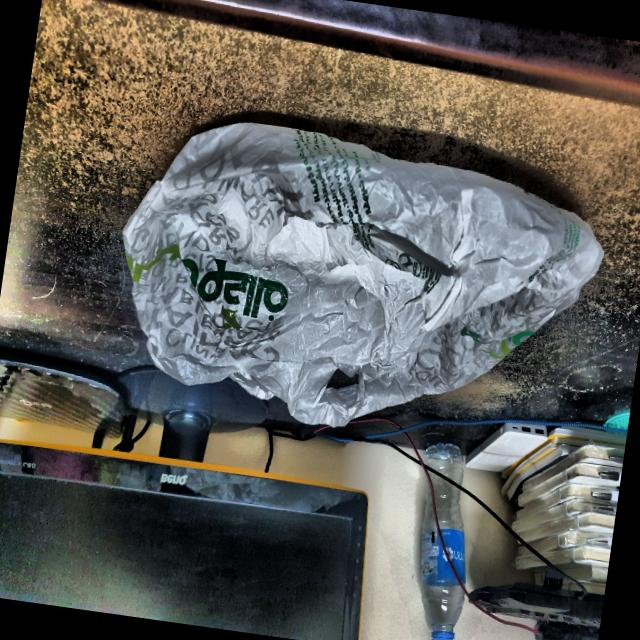plastic bag: (92, 97, 622, 469)
